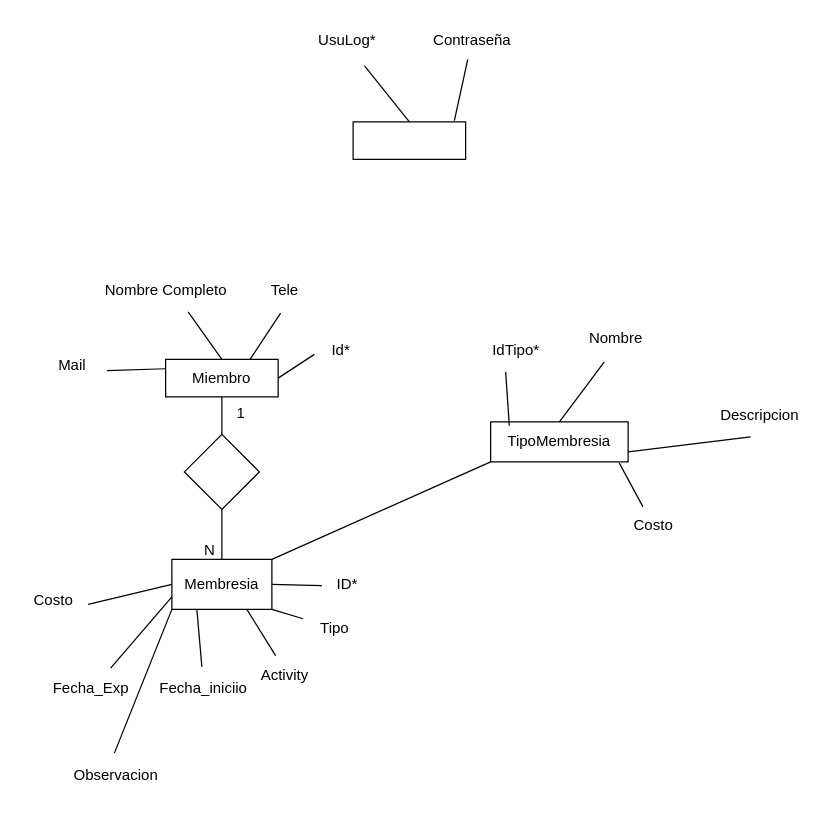
The diagram is 836 pixels wide and 815 high, and some of its shapes have lost their labels. Here are the shapes that lost their labels. From the top down, the centre of each, then its label:
At (x=409, y=140): "Empleado".
At (x=221, y=471): "Tiene".
